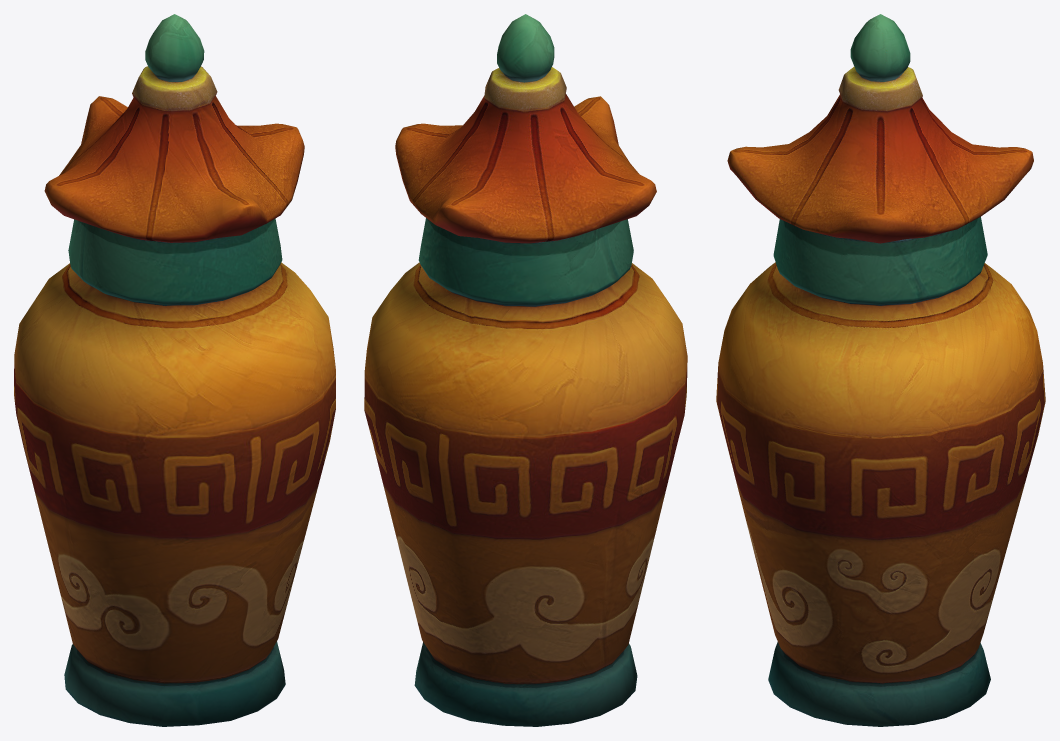
File: SM_Pot_C.glb
3 views of the same model, side by side, from view 1: azimuth 30°, elevation 25°; view 2: azimuth 150°, elevation 25°; view 3: azimuth 270°, elevation 25° (orthographic).
Parts seen in each view (by area): view 1: SM_Pot_C_LOD0; view 2: SM_Pot_C_LOD0; view 3: SM_Pot_C_LOD0.
Boxes of the visible parts, bbox=[...] form: SM_Pot_C_LOD0: bbox=[14, 14, 335, 726]; SM_Pot_C_LOD0: bbox=[364, 14, 687, 726]; SM_Pot_C_LOD0: bbox=[716, 14, 1045, 726].
Size of the model in its own units: 0.3174 by 0.7174 by 0.3216.
1 material, 1 textured.
